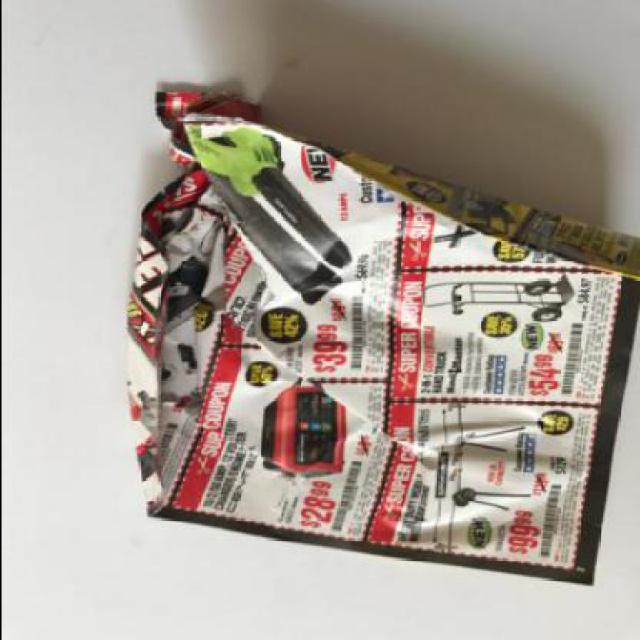paper: (123, 92, 639, 588)
